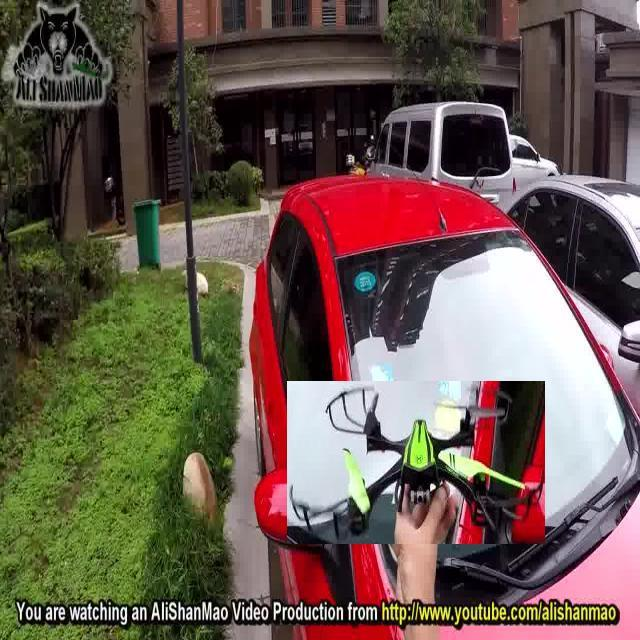drone: (288, 381, 546, 544)
